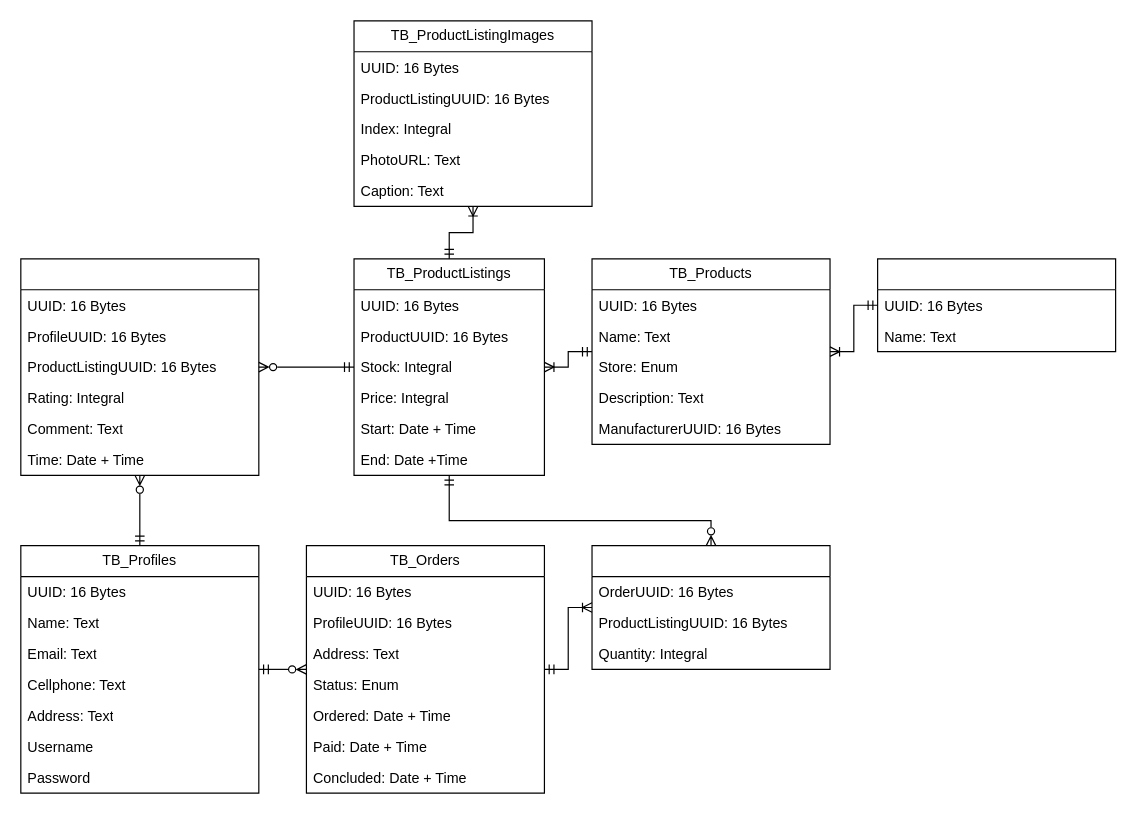
The diagram is 1136 pixels wide and 818 high, and some of its shapes have lost their labels. Each missing label, with the box of its shape:
TB_Manufacturers: (876, 258, 1116, 352)
TB_OrderProductListings: (591, 544, 830, 669)
TB_Reviews: (20, 258, 259, 475)
